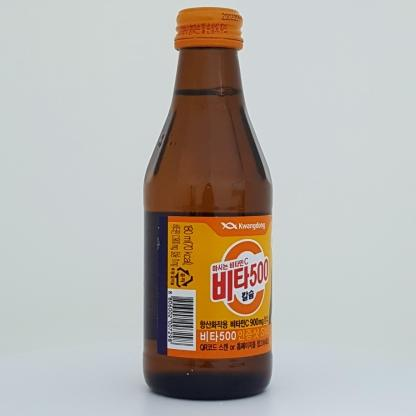-----500---180ML: (143, 7, 273, 401)
